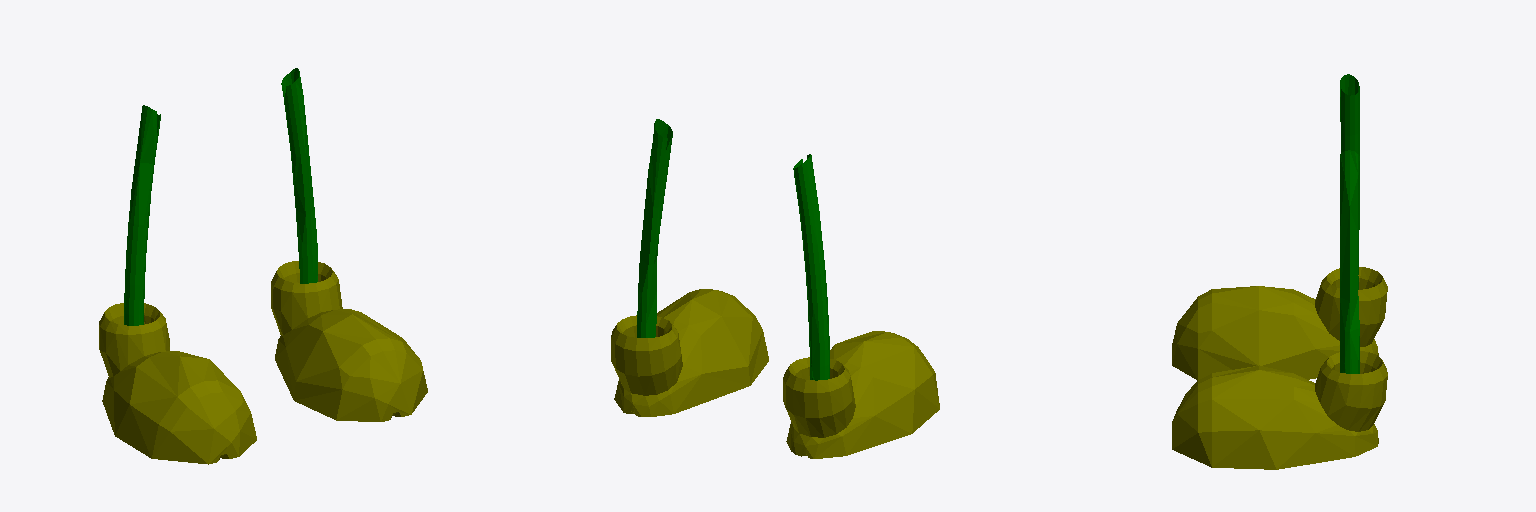
The model's file is nogi0.obj.
3 renders of one model, left to right at view 1: azimuth 30°, elevation 25°; view 2: azimuth 150°, elevation 25°; view 3: azimuth 270°, elevation 25°, orthographic.
Parts seen in each view (by area): view 1: StopaPrawa, StopaLewa, NogaPrawa, NogaLewa; view 2: StopaPrawa, StopaLewa, NogaPrawa, NogaLewa; view 3: StopaLewa, StopaPrawa, NogaLewa, NogaPrawa.
Boxes of the visible parts, x1=… form: StopaPrawa: x1=99, y1=303, x2=256, y2=464; StopaLewa: x1=271, y1=261, x2=427, y2=421; NogaPrawa: x1=124, y1=105, x2=160, y2=325; NogaLewa: x1=281, y1=68, x2=317, y2=283; StopaPrawa: x1=783, y1=331, x2=939, y2=458; StopaLewa: x1=611, y1=289, x2=768, y2=416; NogaPrawa: x1=793, y1=154, x2=829, y2=380; NogaLewa: x1=637, y1=119, x2=672, y2=337; StopaLewa: x1=1172, y1=351, x2=1387, y2=469; StopaPrawa: x1=1172, y1=267, x2=1387, y2=380; NogaLewa: x1=1340, y1=150, x2=1359, y2=373; NogaPrawa: x1=1340, y1=74, x2=1359, y2=289.
Size of the model in its own units: 0.8176 by 0.7896 by 0.5358.